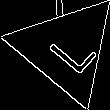L_NW: (36, 21, 96, 77)
